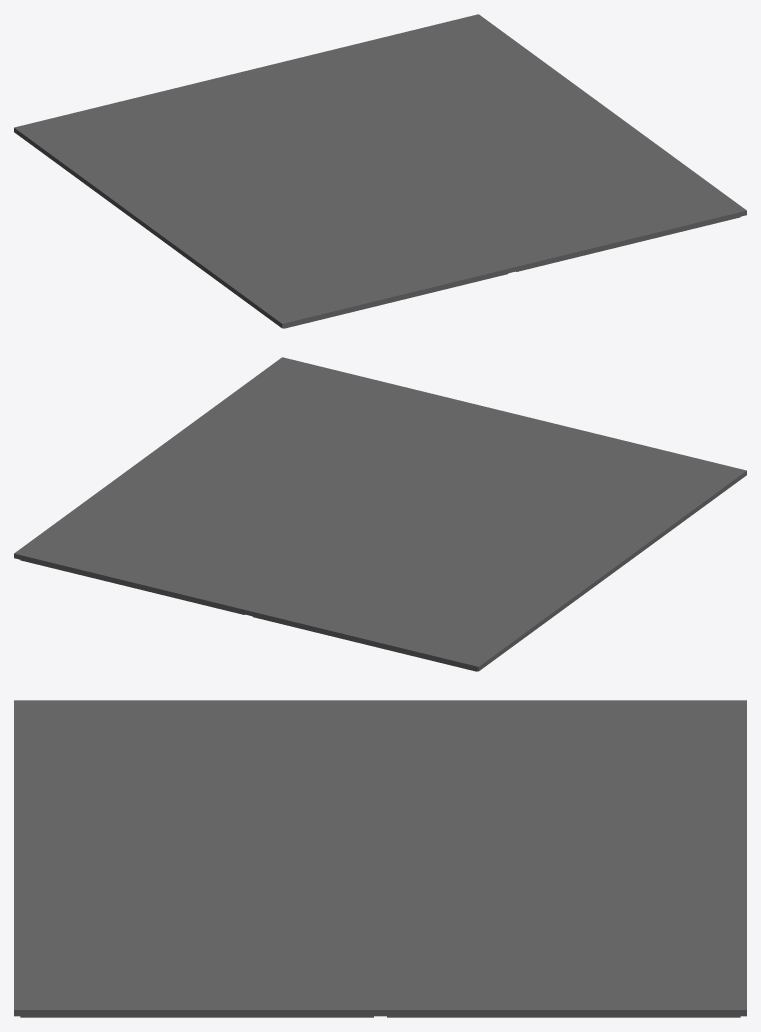
Rendered from CeilingIllumFull.fbx.
3 views of the same model, one above another, from view 1: azimuth 30°, elevation 25°; view 2: azimuth 150°, elevation 25°; view 3: azimuth 270°, elevation 25° (orthographic). The views are drawn at different scales.
Visible parts, largest first — view 1: CeilingIllumFull; view 2: CeilingIllumFull; view 3: CeilingIllumFull.
Part boxes in pixels (<box>): CeilingIllumFull: <box>14,14,746,328</box>; CeilingIllumFull: <box>14,357,746,671</box>; CeilingIllumFull: <box>14,700,746,1017</box>.
Bounding box in the file's own units: 200 × 3.12 × 200.
